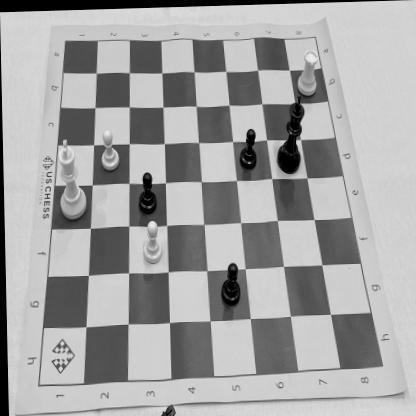black-king: (273, 97, 306, 177)
black-pawn: (216, 256, 244, 308), (135, 167, 159, 215), (236, 122, 258, 172)
white-king: (50, 132, 90, 219)
white-pawn: (138, 217, 165, 265), (96, 126, 122, 173)
white-rook: (296, 46, 320, 98)
